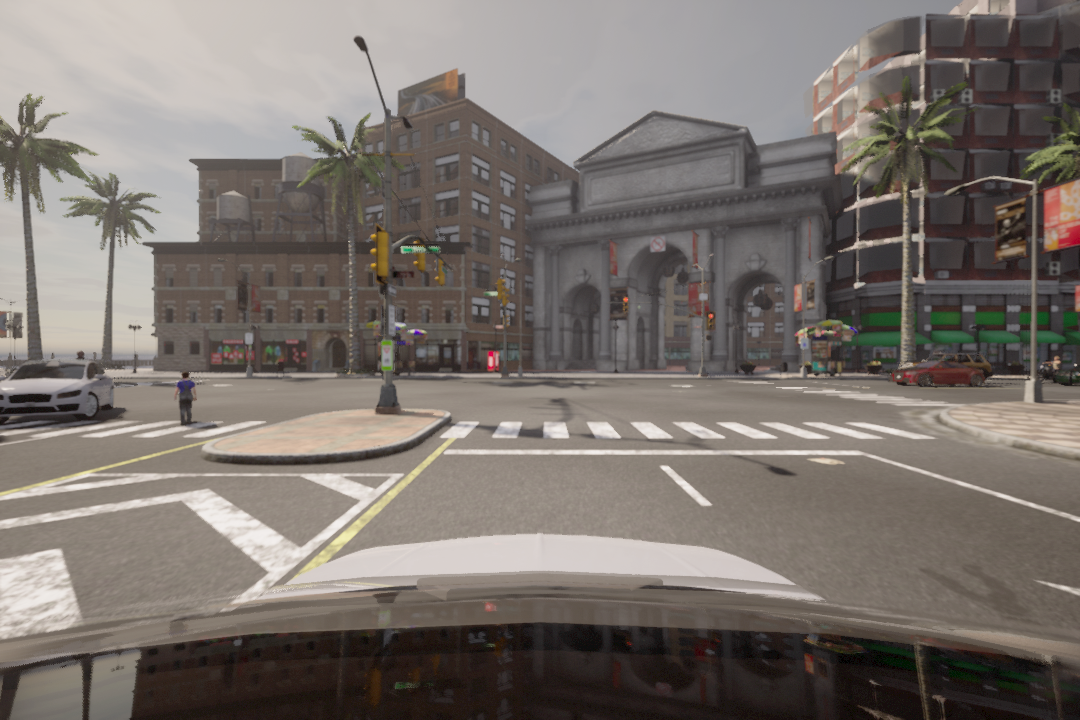TrafficLight: (705, 311, 717, 329), (621, 294, 630, 314)
TrafficSign: (650, 238, 666, 253)
walkside: (439, 417, 937, 447), (2, 417, 264, 443)
